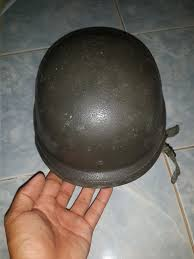helmet: (33, 27, 180, 187)
